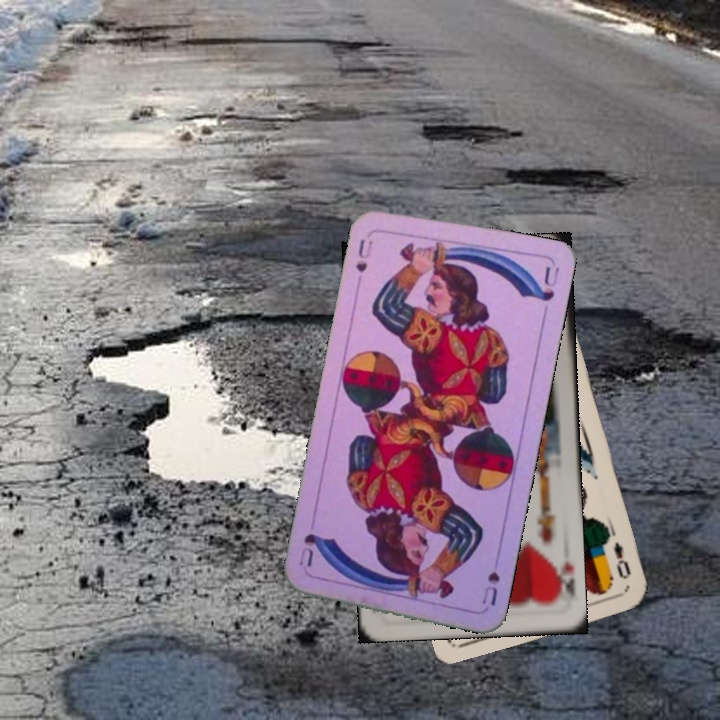EO: (609, 538, 633, 582)
HK: (549, 556, 577, 606)
SU: (478, 567, 502, 609), (351, 235, 376, 275)
